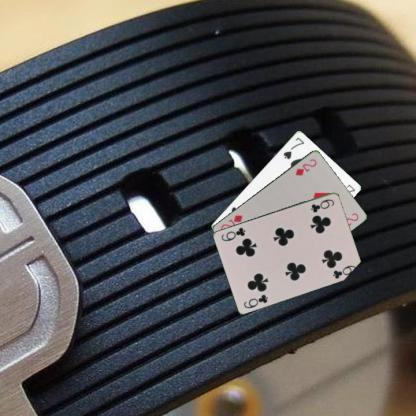2d: (293, 156, 318, 177)
6c: (308, 196, 336, 214), (241, 292, 269, 309)
7s: (281, 134, 306, 160)
